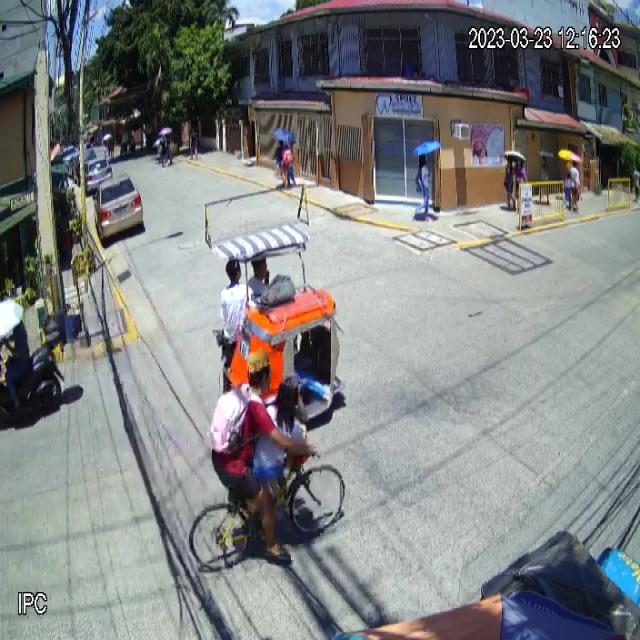Tricycle: (216, 222, 347, 418)
